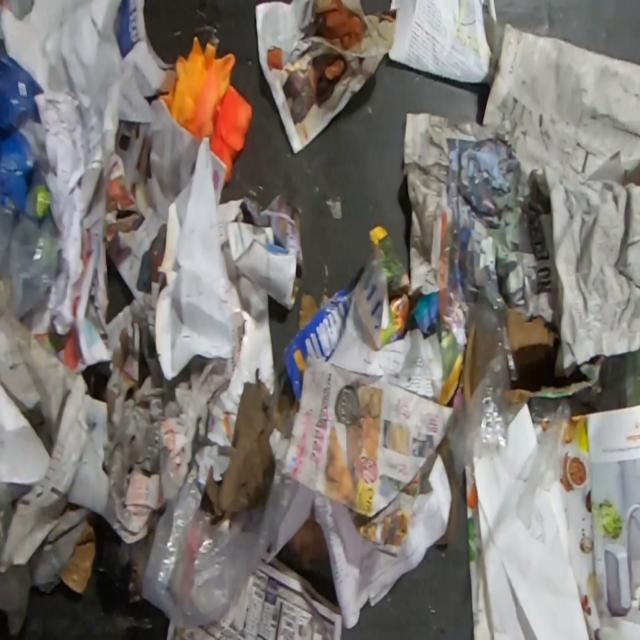cardboard: (200, 377, 300, 526), (504, 308, 606, 412), (57, 511, 108, 596), (432, 436, 462, 545), (285, 511, 329, 574), (297, 291, 320, 331), (462, 329, 474, 400)
soft_plastic: (139, 452, 302, 629), (0, 35, 64, 323), (443, 279, 525, 490), (156, 34, 236, 142), (512, 396, 574, 533)
